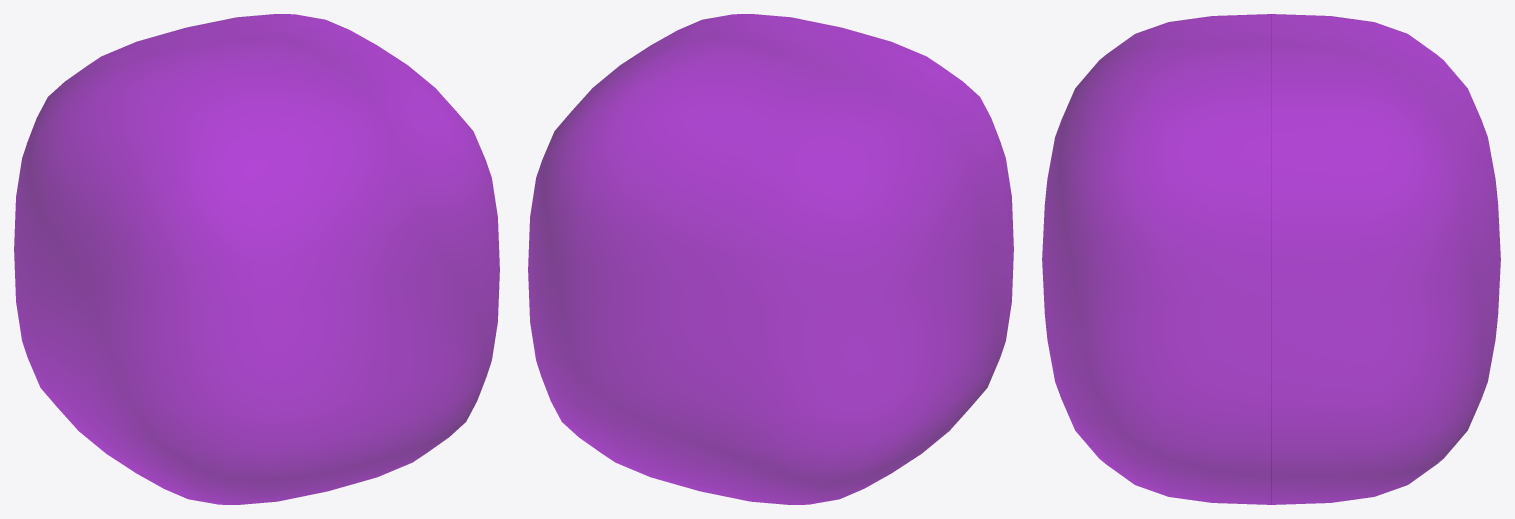
File: br-m-bubble-purple.fbx
3 renders of one model, left to right at view 1: azimuth 30°, elevation 25°; view 2: azimuth 150°, elevation 25°; view 3: azimuth 270°, elevation 25°, orthographic. The views are drawn at different scales.
Parts seen in each view (by area): view 1: bubble; view 2: bubble; view 3: bubble.
Boxes of the visible parts, bbox=[...] form: bubble: bbox=[14, 14, 499, 504]; bubble: bbox=[528, 14, 1013, 504]; bubble: bbox=[1042, 14, 1500, 504].
Size of the model in its own units: 1 by 1 by 1.
